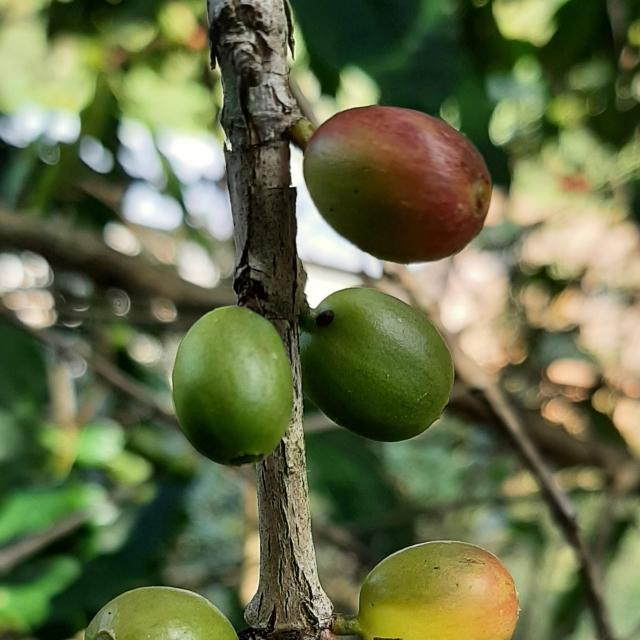green: (300, 288, 454, 442), (172, 306, 292, 466), (84, 588, 238, 640)
yellow: (304, 105, 493, 263), (334, 542, 520, 640)
